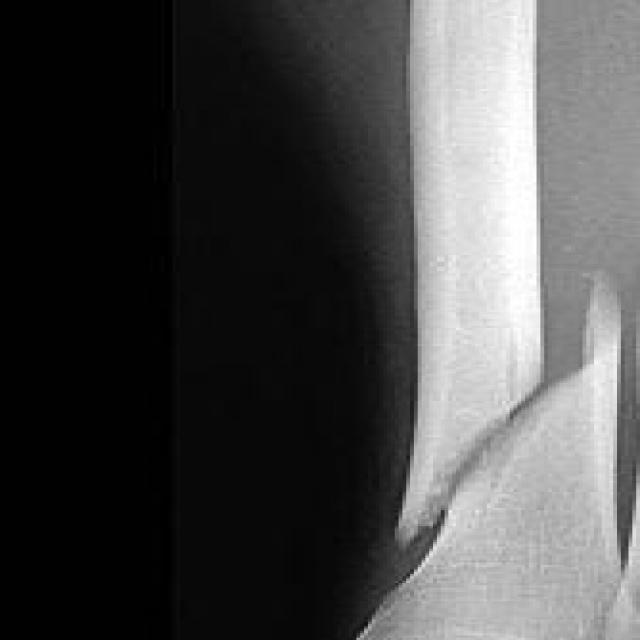Broken: (348, 279, 627, 635), (408, 6, 546, 537)
